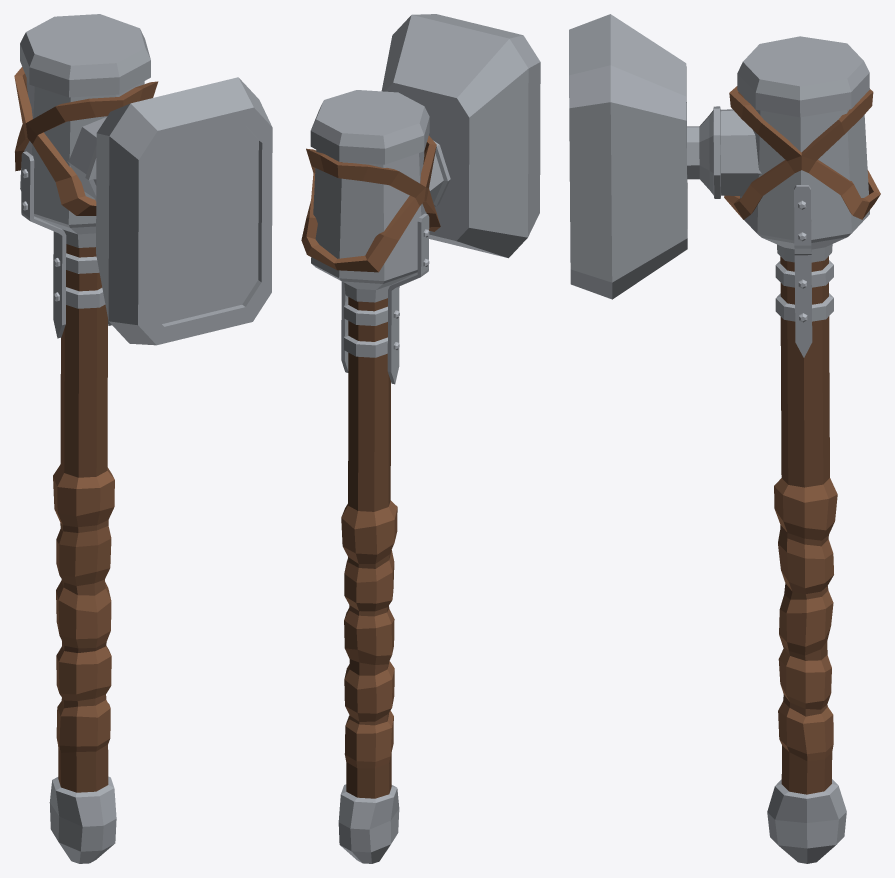
File: war_hammer.glb
The picture shows the model from 3 angles, left to right: view 1: azimuth 30°, elevation 25°; view 2: azimuth 150°, elevation 25°; view 3: azimuth 270°, elevation 25°; orthographic projection. The views are drawn at different scales.
Visible parts, largest first — view 1: war_hammer; view 2: war_hammer; view 3: war_hammer.
Boxes of the visible parts, x1,y1,x2,y2 form: war_hammer: (14,14,272,863); war_hammer: (301,14,540,863); war_hammer: (569,14,880,863).
Size of the model in its own units: 0.149 by 0.7988 by 0.2757.
